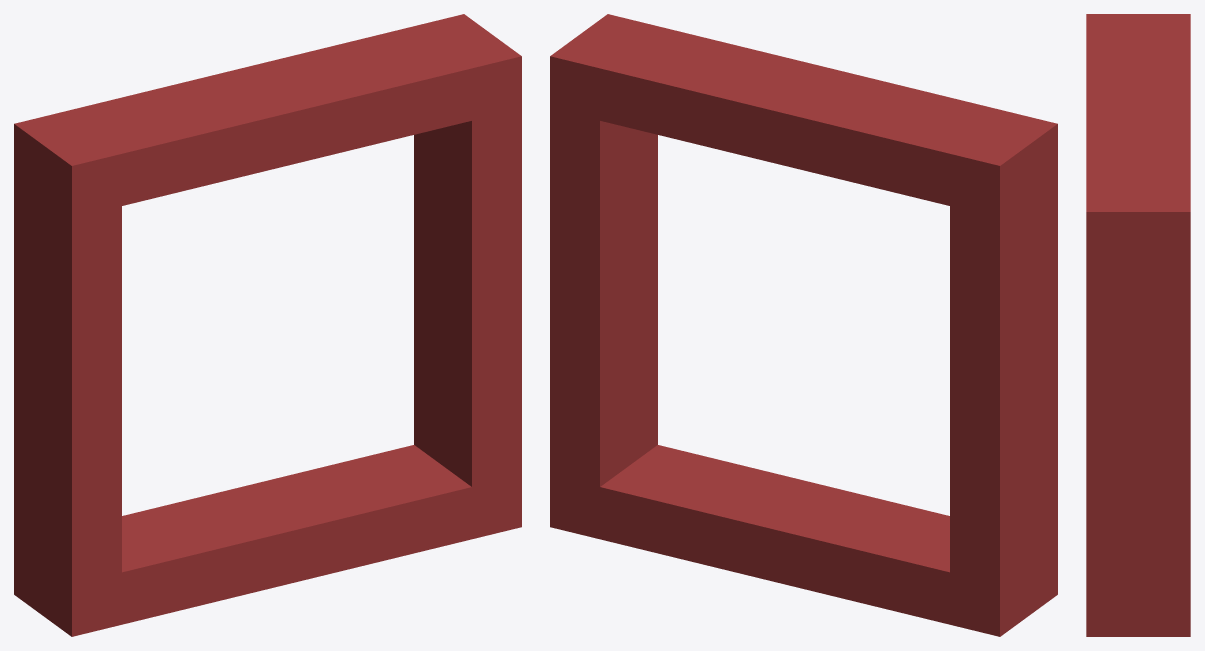
Rendered from squareFinished.fbx.
3 views of the same model, side by side, from view 1: azimuth 30°, elevation 25°; view 2: azimuth 150°, elevation 25°; view 3: azimuth 270°, elevation 25° (orthographic). The views are drawn at different scales.
Parts seen in each view (by area): view 1: pCube1; view 2: pCube1; view 3: pCube1.
Part boxes in pixels (x1,y1,x2,y2): pCube1: [14, 14, 521, 636]; pCube1: [550, 14, 1057, 636]; pCube1: [1086, 14, 1190, 636].
Size of the model in its own units: 1 by 1 by 0.2221.
